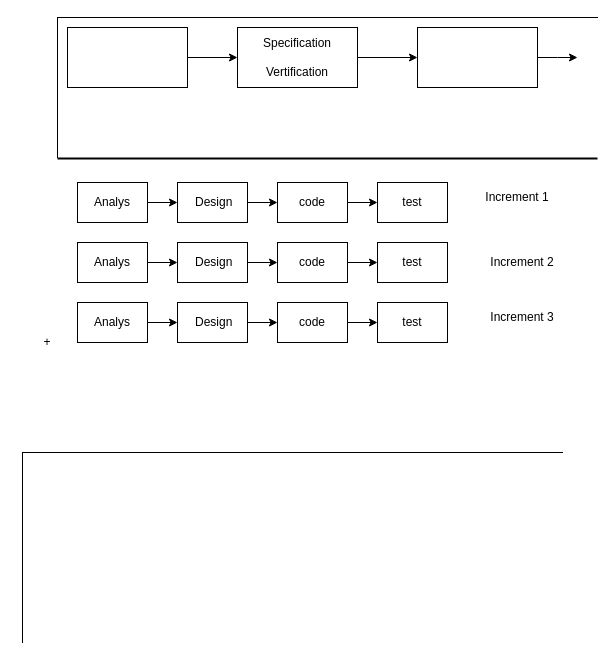
Some shapes in this 615 by 660 pixel diagram are drawn without their labels. The box of each missing label's shape, as (x1, y1, x2, y2) in pixels:
Architecture design Vertification: (416, 26, 538, 88)
Requirment Vertification: (66, 26, 188, 88)
